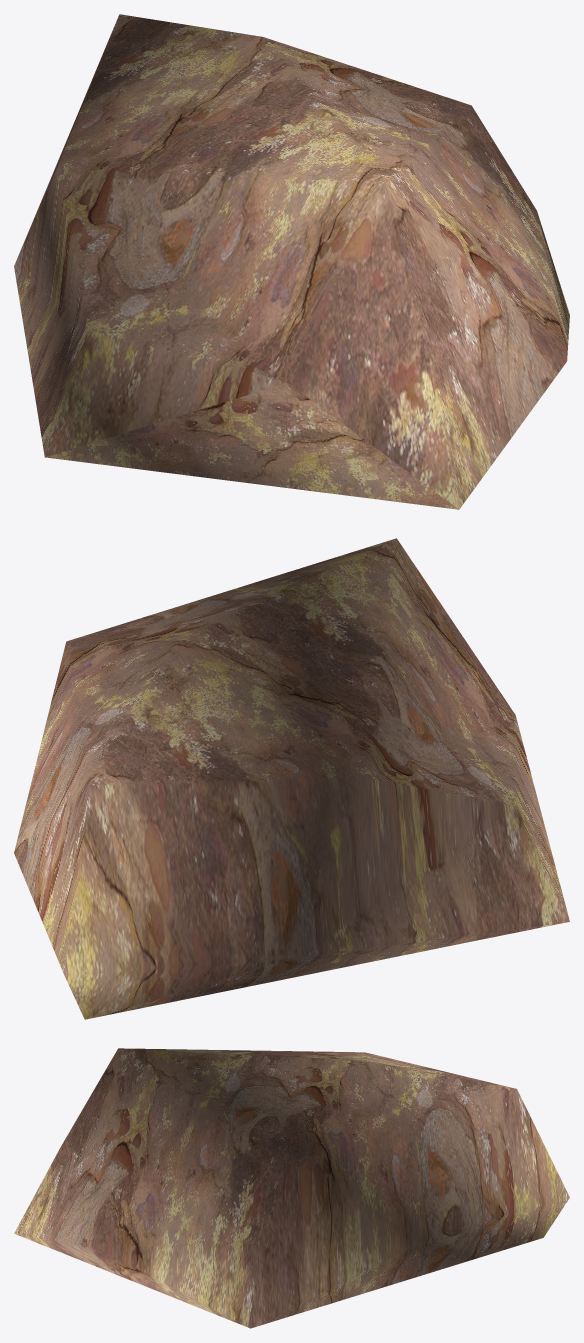
File: boulder1.fbx
3 renders of one model, top to bottom at view 1: azimuth 30°, elevation 25°; view 2: azimuth 150°, elevation 25°; view 3: azimuth 270°, elevation 25°, orthographic. The views are drawn at different scales.
Parts seen in each view (by area): view 1: boulder1; view 2: boulder1; view 3: boulder1.
Boxes of the visible parts, x1,y1,x2,y2 form: boulder1: [14, 14, 569, 509]; boulder1: [14, 538, 569, 1019]; boulder1: [14, 1048, 569, 1328].
Size of the model in its own units: 28583 by 14000 by 37012.
